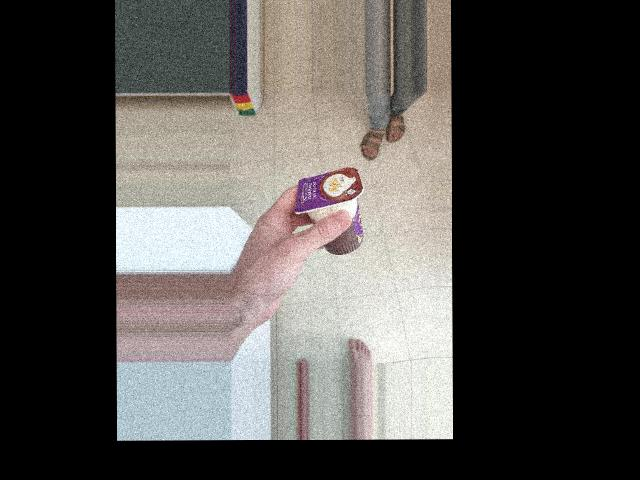milky: (309, 164, 396, 226)
